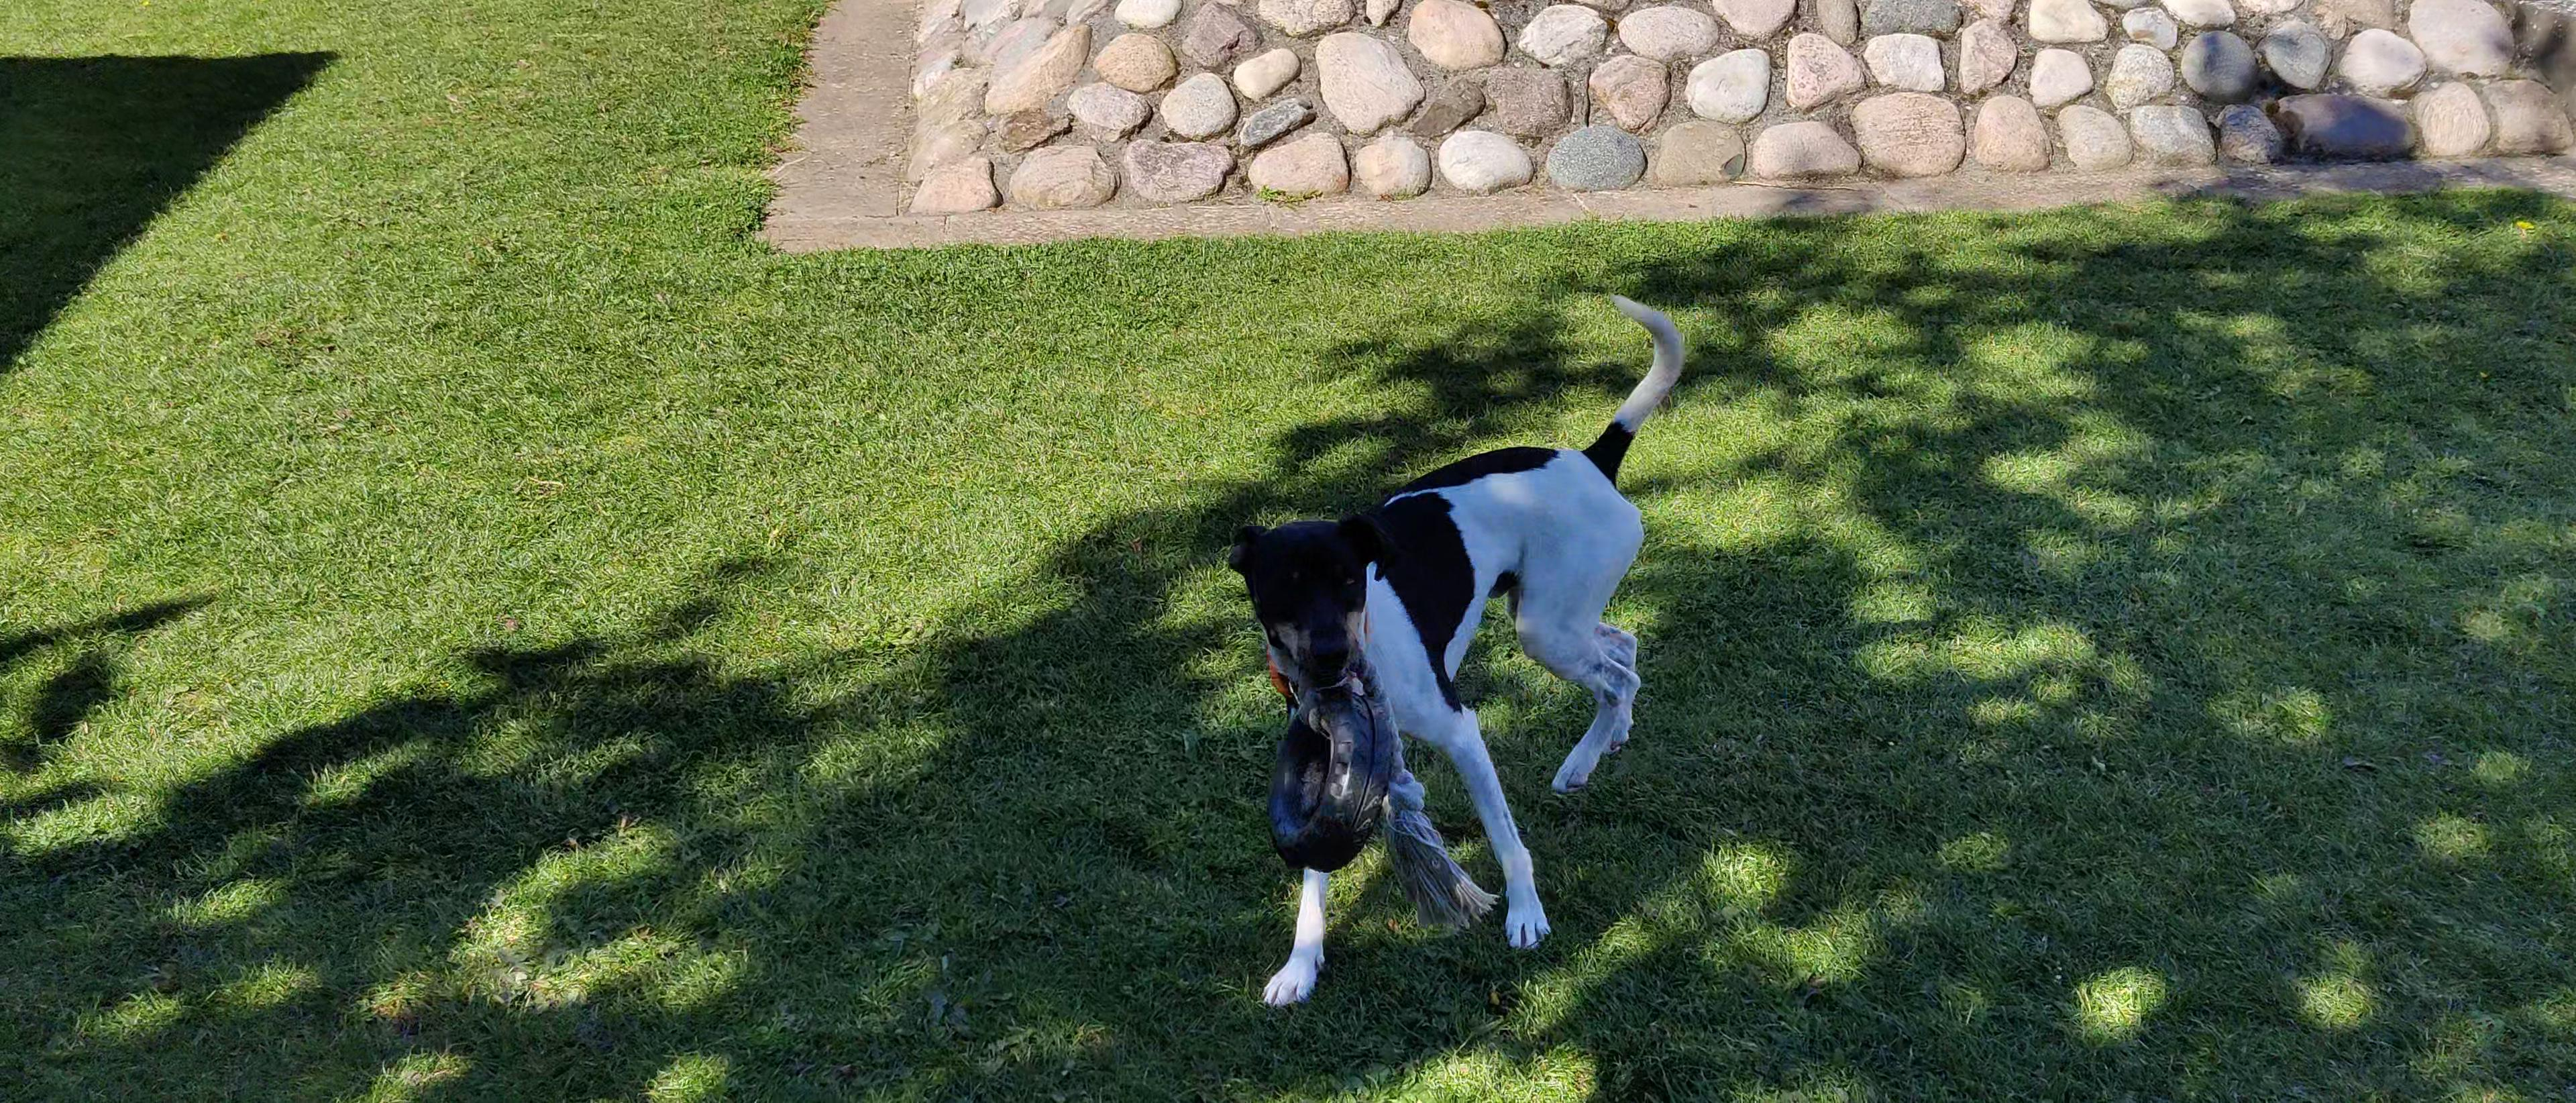Dog: (1203, 279, 1700, 1024)
